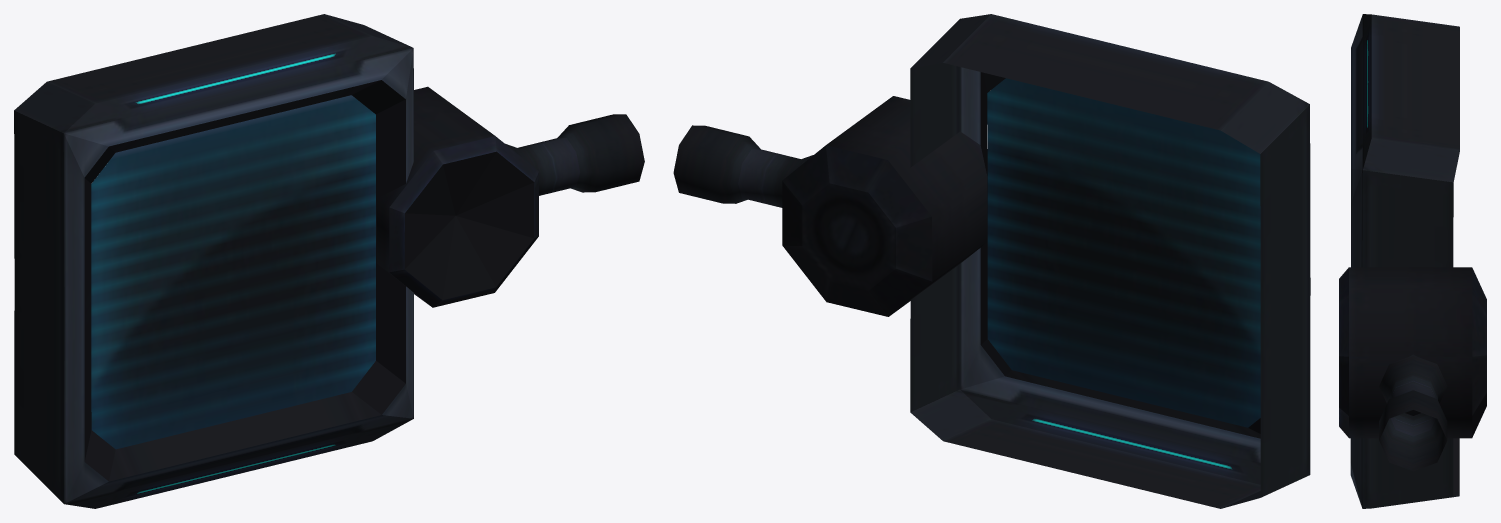
The model's file is bwhc_tbys.FBX.
The picture shows the model from 3 angles, left to right: view 1: azimuth 30°, elevation 25°; view 2: azimuth 150°, elevation 25°; view 3: azimuth 270°, elevation 25°; orthographic projection. The views are drawn at different scales.
Parts seen in each view (by area): view 1: bwhc_tbdb, bwhc_zhou; view 2: bwhc_tbdb, bwhc_zhou; view 3: bwhc_tbdb, bwhc_zhou.
Part boxes in pixels (x1,y1,x2,y2): bwhc_tbdb: [14, 14, 413, 508]; bwhc_zhou: [376, 86, 644, 307]; bwhc_tbdb: [910, 14, 1310, 508]; bwhc_zhou: [673, 96, 987, 316]; bwhc_tbdb: [1350, 14, 1459, 508]; bwhc_zhou: [1339, 267, 1486, 471].
Size of the model in its own units: 0.9739 by 0.639 by 0.2313.
Materials: 1 (1 with a texture image).
